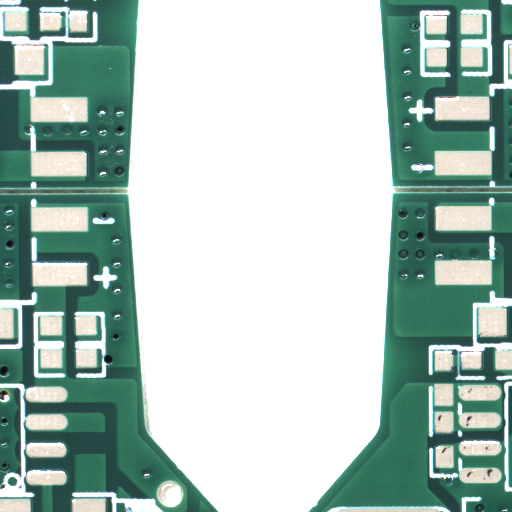Open_circuit: (90, 442, 129, 467)
